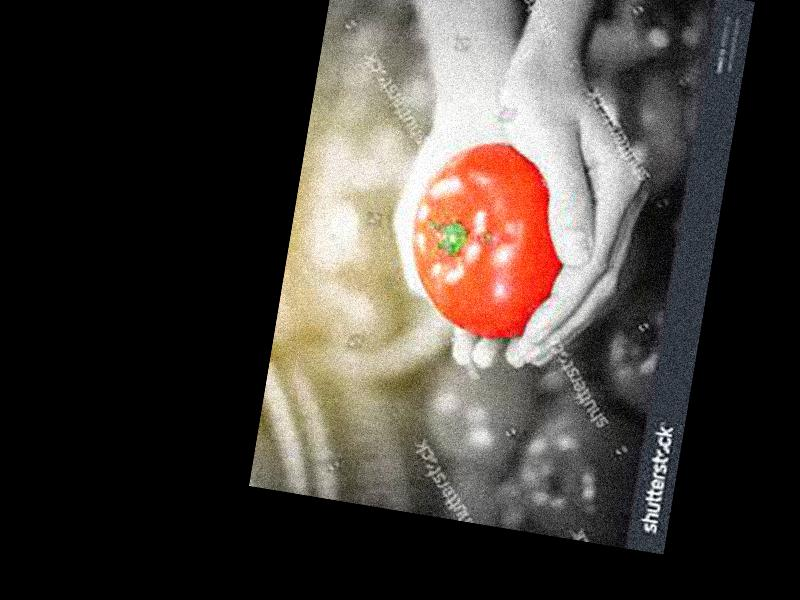Tomato: (398, 132, 578, 346)
